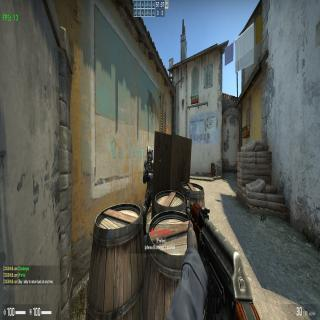CT-Body: (142, 146, 154, 222)
CT-Head: (145, 146, 153, 168)
